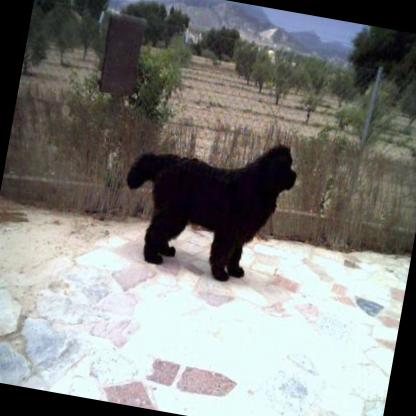Newfoundland: (110, 118, 301, 289)
